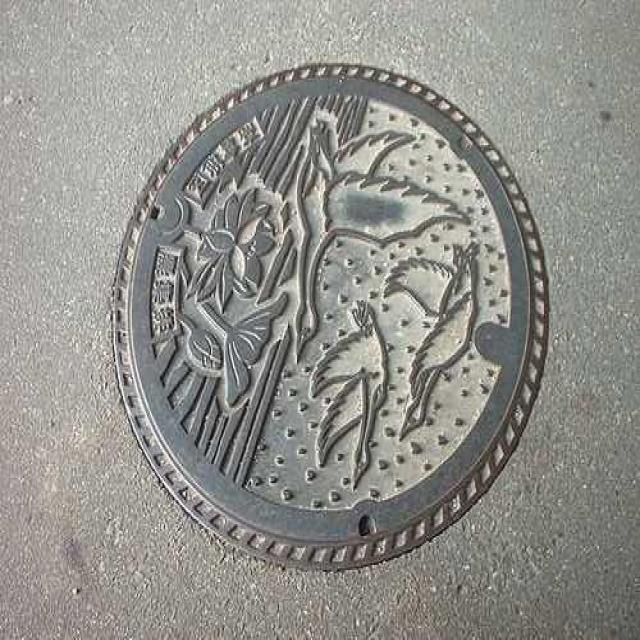manhole: (114, 65, 547, 569)
